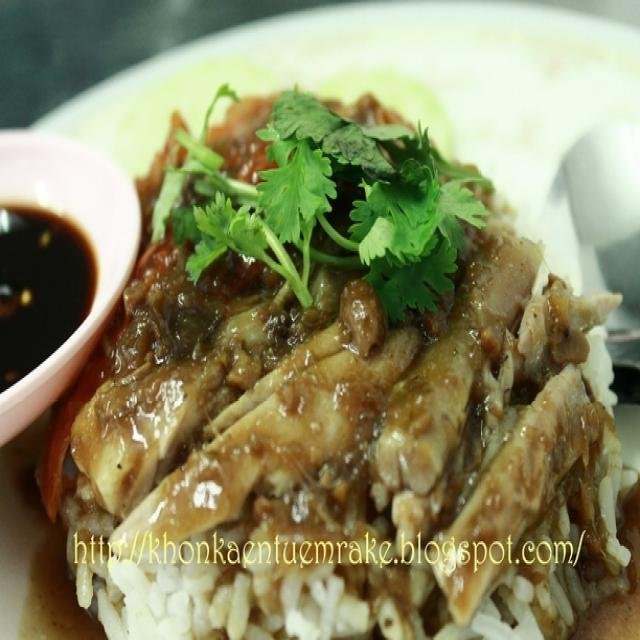米饭主食: (44, 55, 621, 610)
